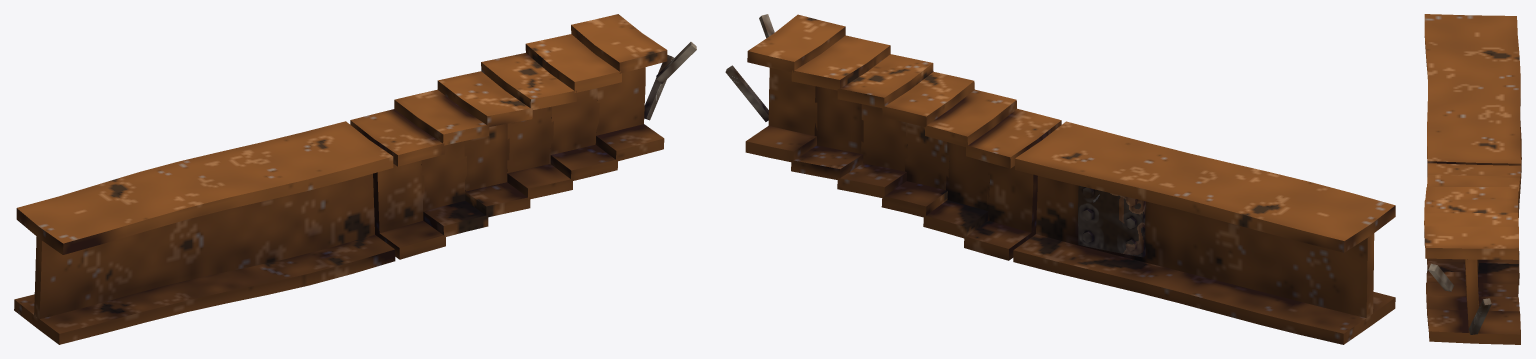
Rendered from LogGirder.glb.
3 views of the same model, side by side, from view 1: azimuth 30°, elevation 25°; view 2: azimuth 150°, elevation 25°; view 3: azimuth 270°, elevation 25° (orthographic). The views are drawn at different scales.
Parts seen in each view (by area): view 1: Beam, Plates; view 2: Beam, Plates; view 3: Beam, Plates.
Boxes of the visible parts, x1,y1,x2,y2 form: Beam: (14, 14, 667, 344); Plates: (644, 42, 696, 120); Beam: (745, 14, 1395, 344); Plates: (725, 14, 1145, 257); Beam: (1424, 14, 1521, 344); Plates: (1428, 263, 1491, 334).
Bounding box in the file's own units: 5.87 × 1.31 × 0.8182.
2 materials, 2 textured.
